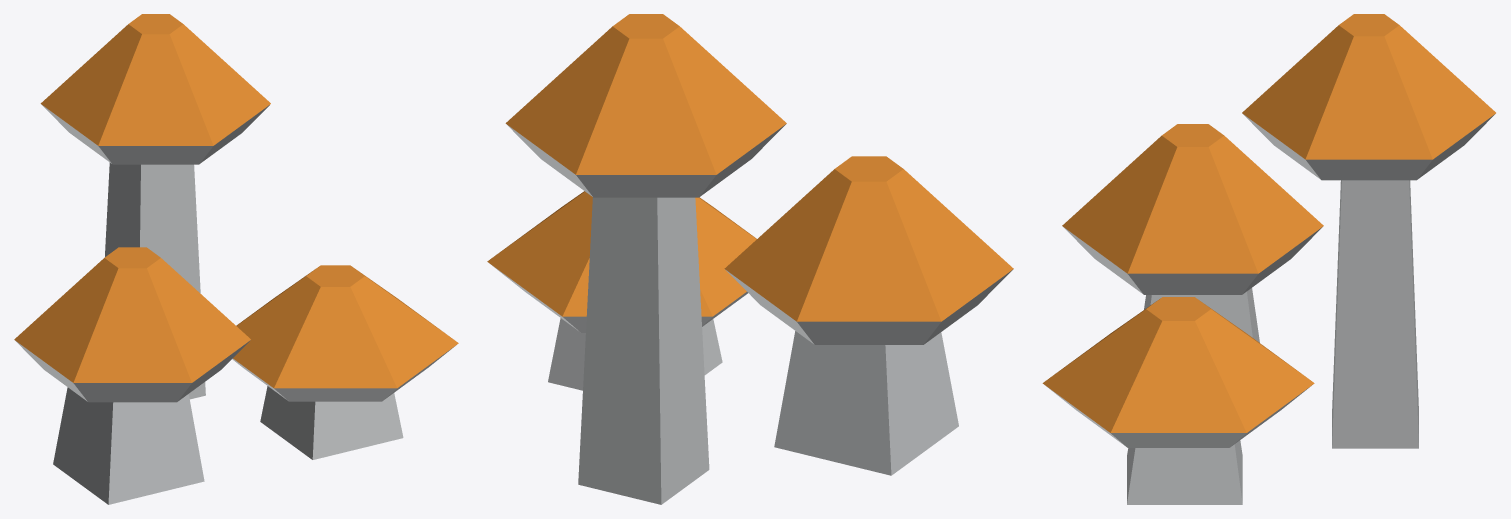
The model's file is mushroom-group.glb.
3 renders of one model, left to right at view 1: azimuth 30°, elevation 25°; view 2: azimuth 150°, elevation 25°; view 3: azimuth 270°, elevation 25°, orthographic. The views are drawn at different scales.
Parts seen in each view (by area): view 1: mushroom_redGroup; view 2: mushroom_redGroup; view 3: mushroom_redGroup.
Boxes of the visible parts, box(x1,y1,x2,y2) form: mushroom_redGroup: box(14, 14, 458, 504); mushroom_redGroup: box(487, 14, 1013, 504); mushroom_redGroup: box(1042, 14, 1495, 504).
Size of the model in its own units: 0.3014 by 0.28 by 0.2841.
